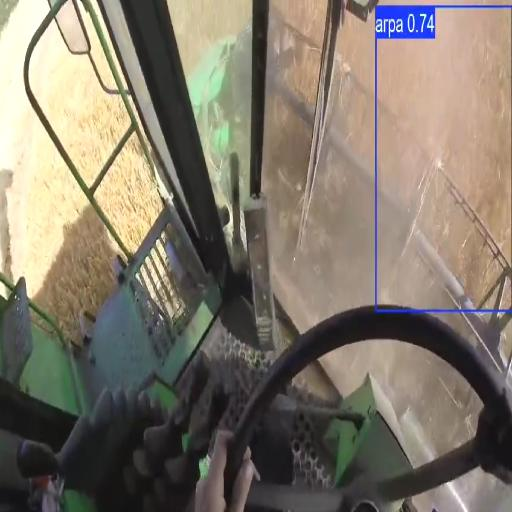arpa: (330, 11, 511, 299), (375, 11, 511, 306), (0, 0, 117, 335), (264, 20, 374, 328), (13, 137, 119, 338), (30, 24, 129, 183), (43, 56, 129, 183), (263, 96, 310, 275), (301, 151, 366, 280), (97, 134, 158, 251), (97, 134, 156, 250), (168, 0, 249, 79), (172, 0, 249, 71), (272, 0, 325, 102), (275, 0, 325, 101), (382, 247, 445, 305)
